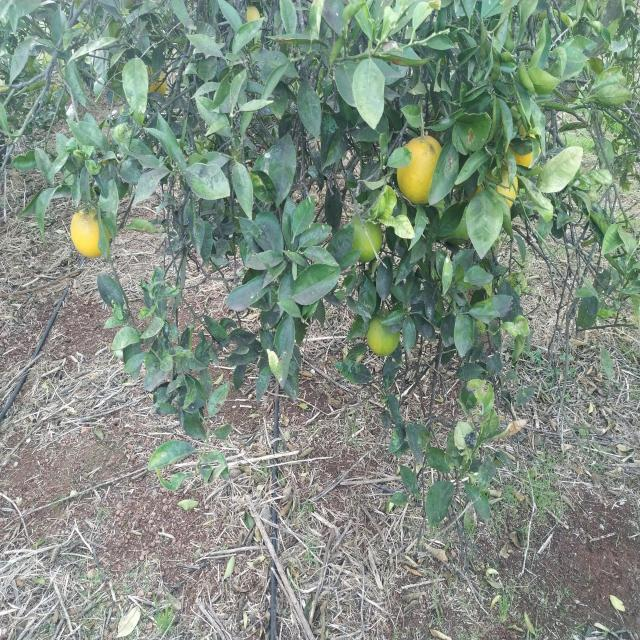Jeruk Belum Matang: (350, 216, 383, 261), (366, 314, 401, 354), (243, 6, 260, 22)
Jeruk Sudah Matang: (396, 133, 444, 204), (467, 164, 519, 208), (70, 208, 112, 258), (508, 123, 542, 168), (142, 64, 168, 98)
